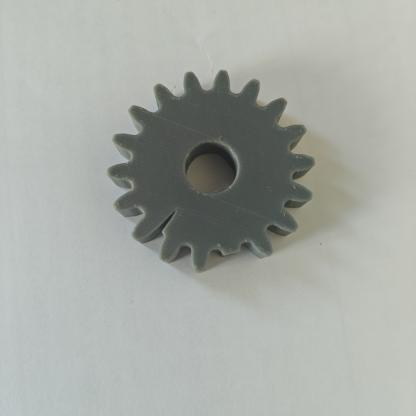defect: (198, 218, 276, 284), (121, 188, 185, 264)
gear: (73, 54, 349, 296)
